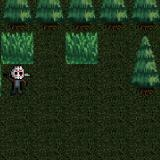Jason: (1, 64, 34, 97)
Obstacle: (0, 0, 35, 32), (129, 65, 160, 97), (35, 0, 66, 32), (66, 0, 97, 32), (98, 0, 129, 32), (129, 0, 159, 31)
Slow: (0, 32, 34, 64), (65, 33, 99, 64)
